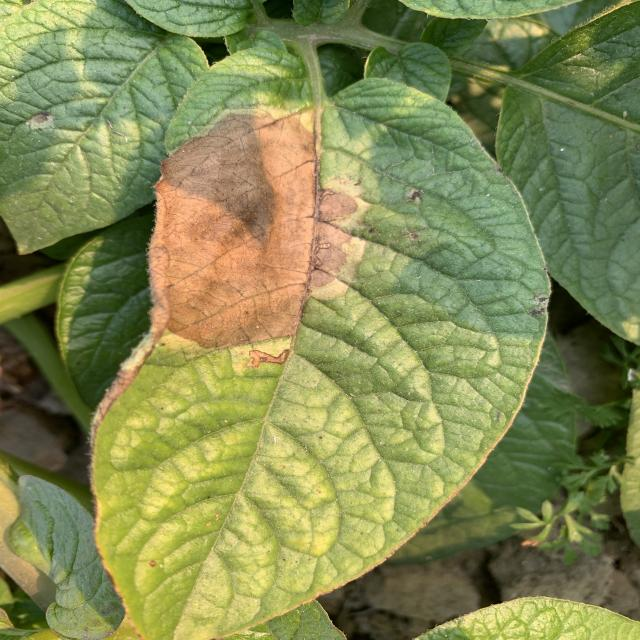lateblight: (148, 110, 315, 348), (308, 179, 372, 300)
